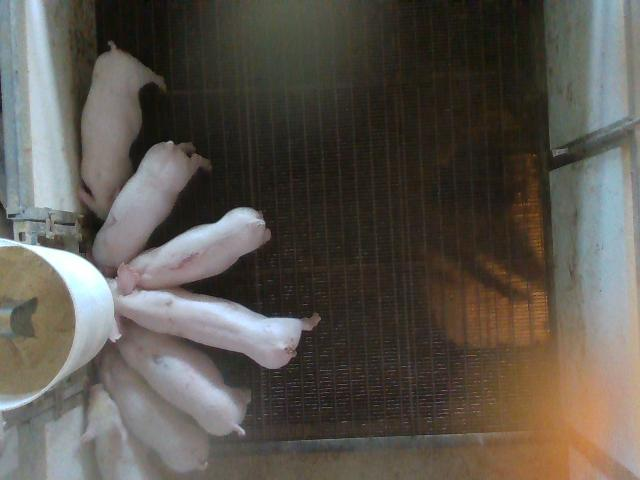pig-1: (129, 208, 271, 288)
